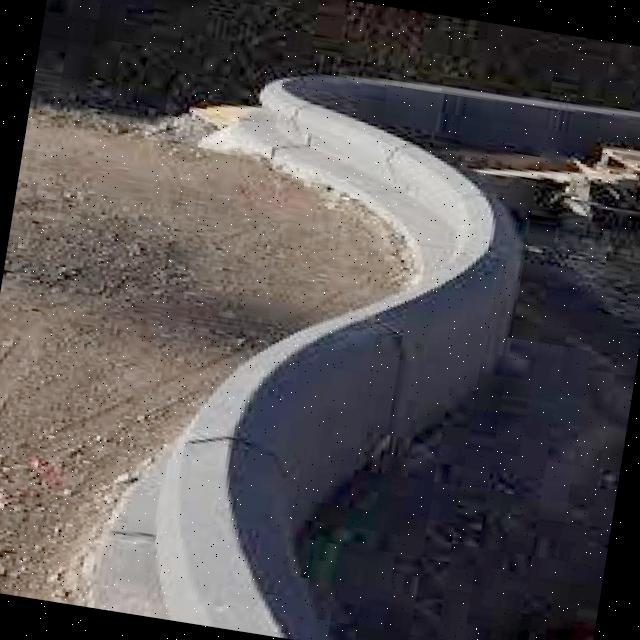curb: (132, 295, 403, 639), (381, 177, 534, 455), (235, 78, 441, 235)
